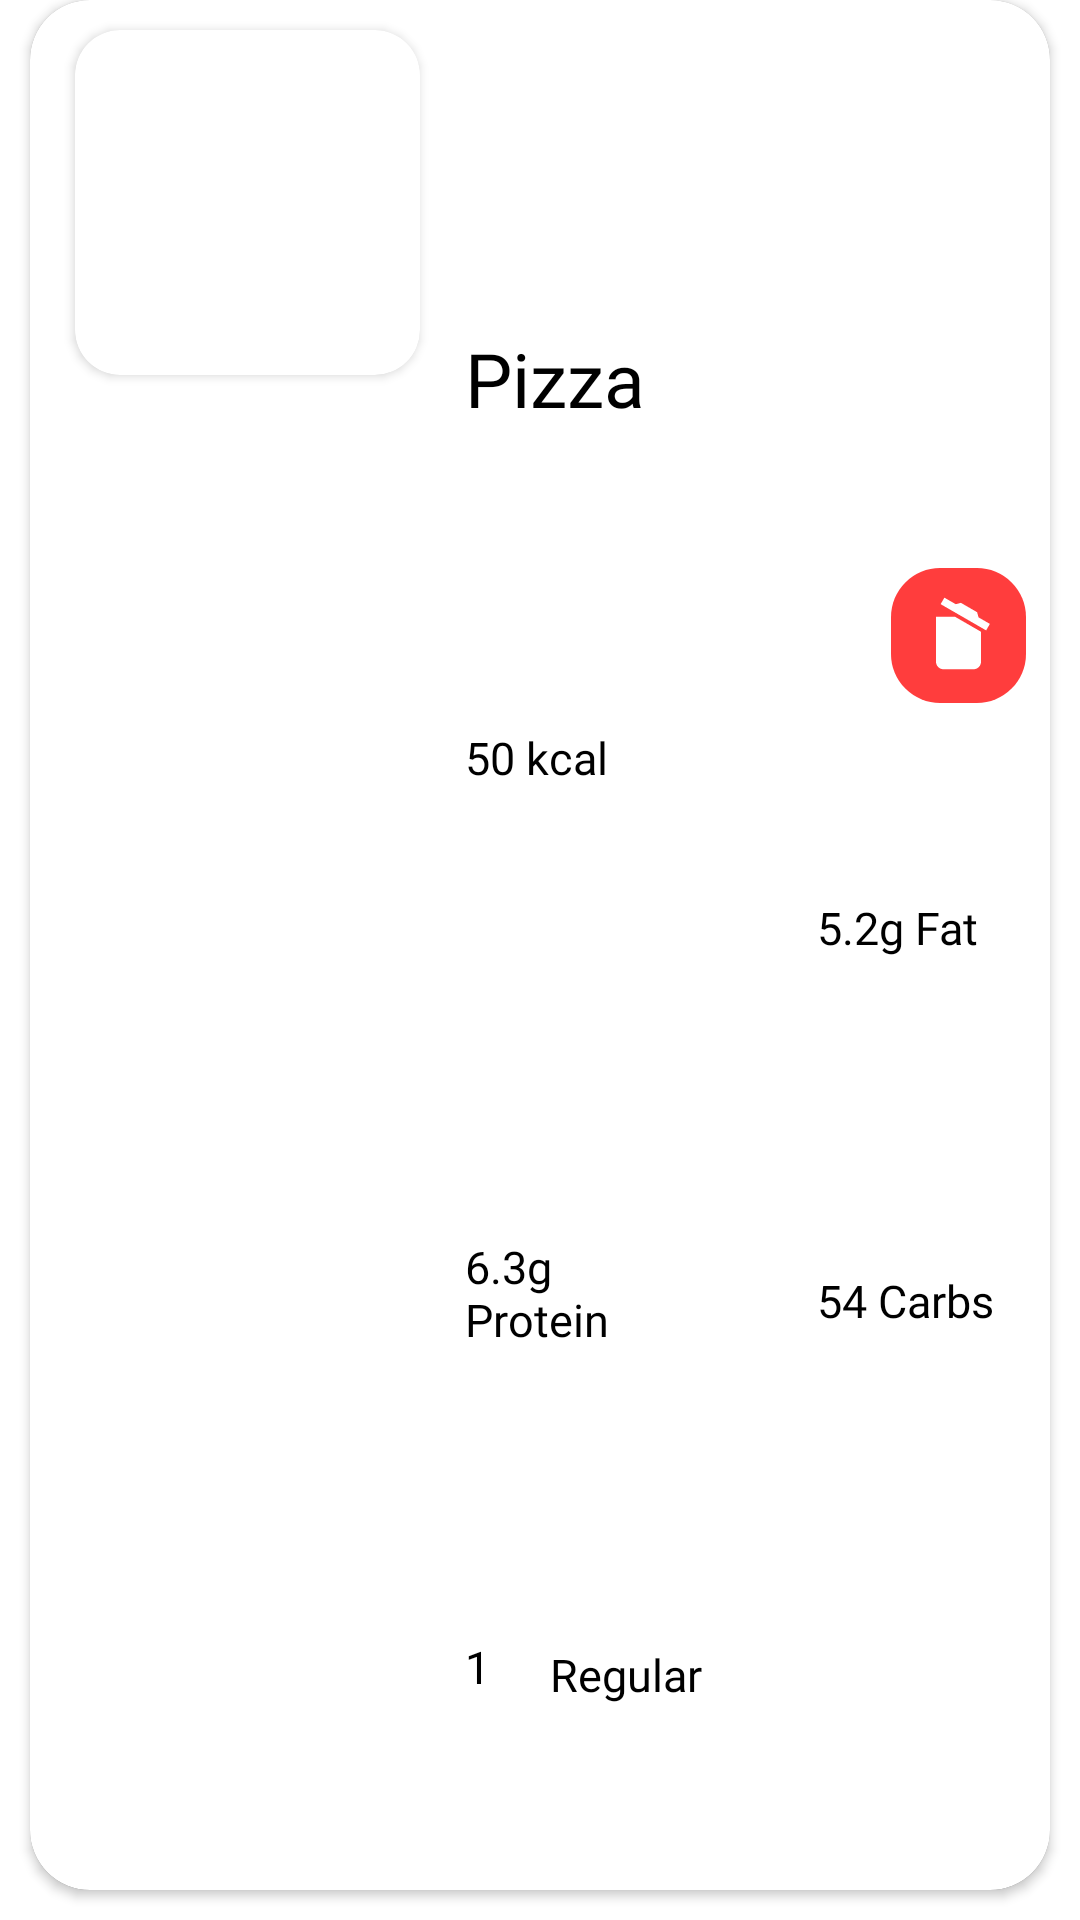

Locate icon controls on the screen. Image size 1080*1920, boxes as (x1, y1, x2, y2).
delete food calorie tracker: (891, 568, 1026, 703)
